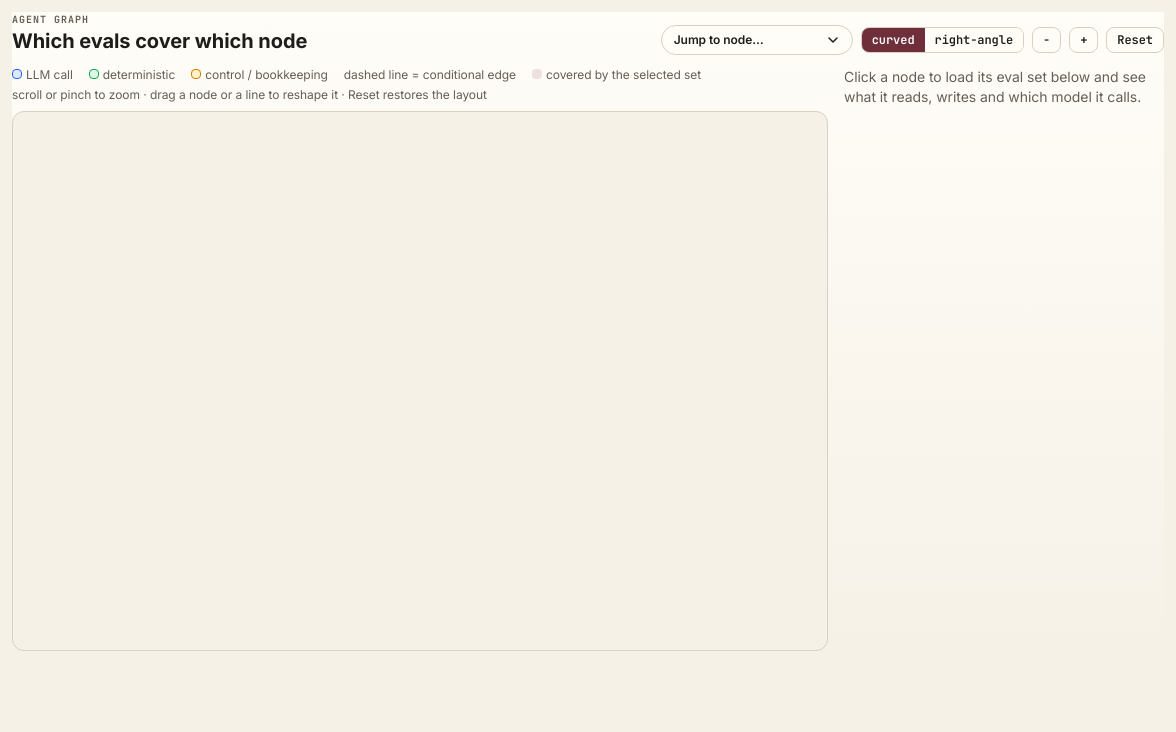
WorkflowMap › jumps to a node from the keyboard picker
Click the dropdown labelled "Jump to node" at (757, 40), box [661,25,853,55]
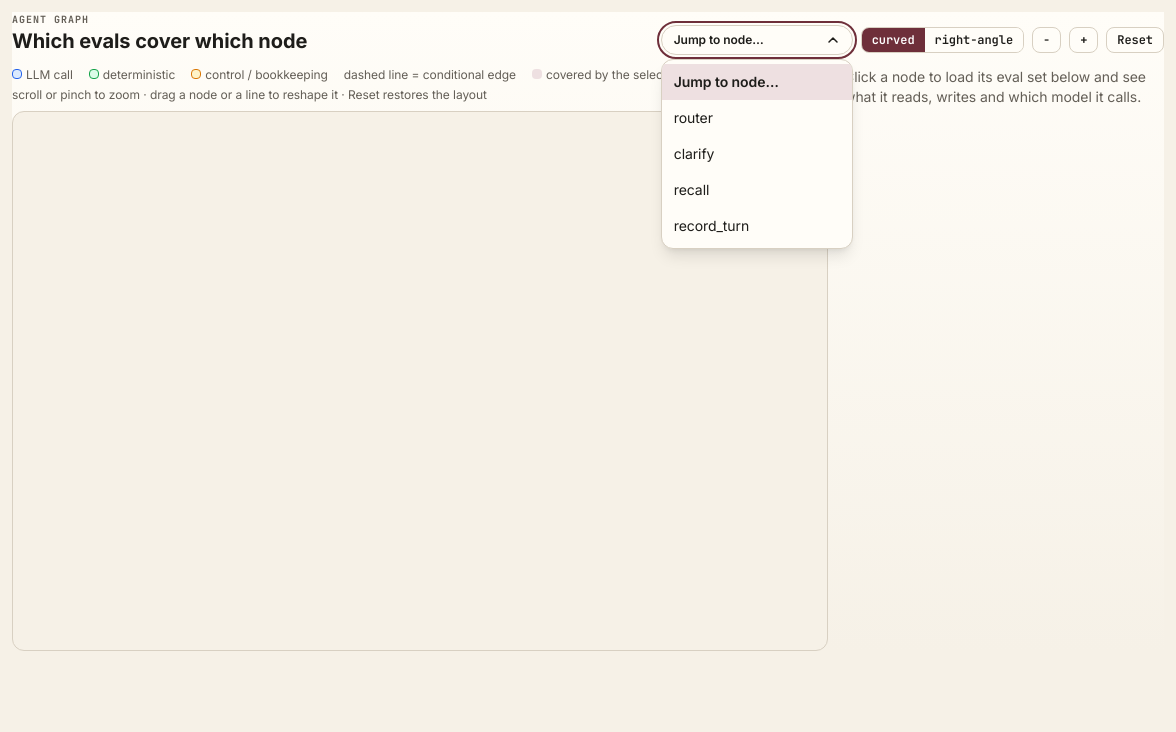
Click the option "router" at (693, 118), box [674,109,713,126]
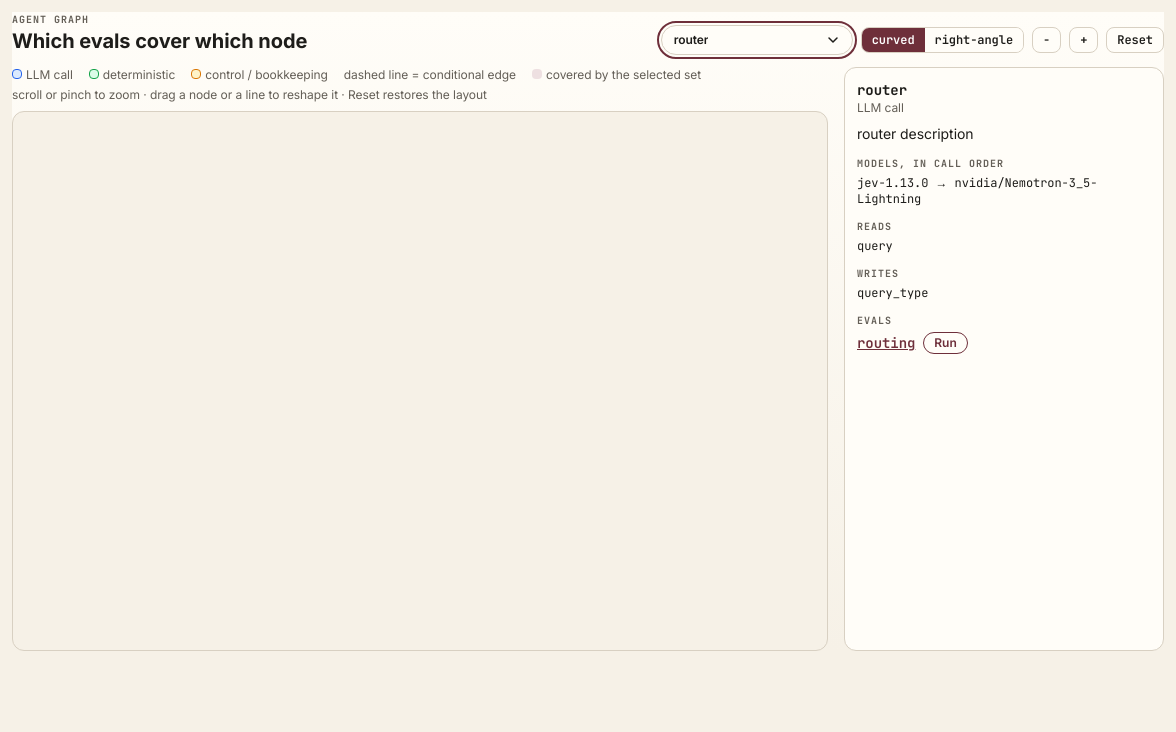
Check: the text "router description" is shown, box [857,125,974,142]
